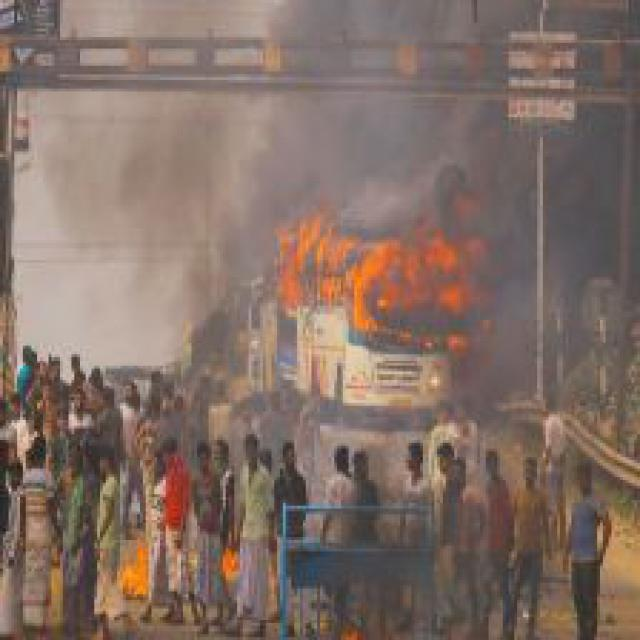fire: (263, 166, 514, 374)
